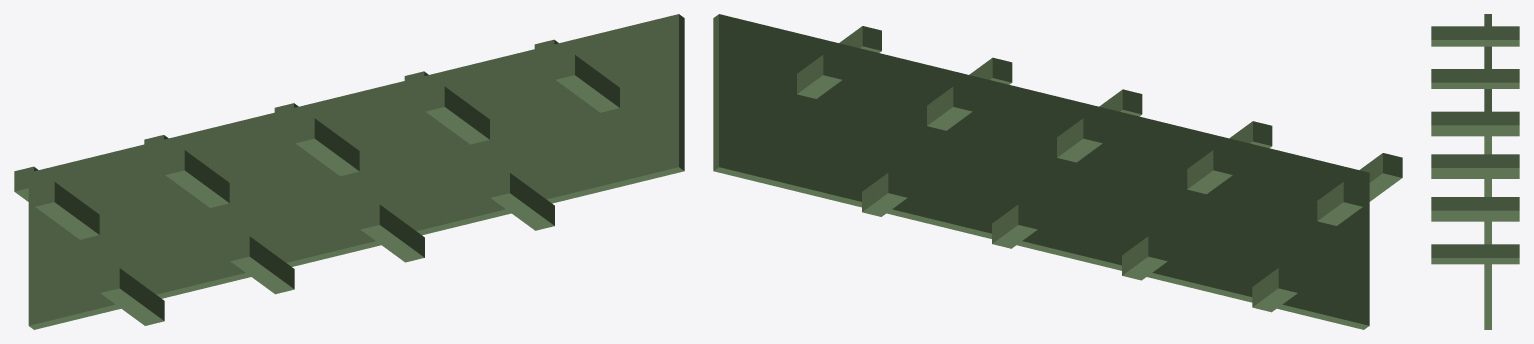
The model's file is SM_MangrovesRoute_Alpha.gltf.
The picture shows the model from 3 angles, left to right: view 1: azimuth 30°, elevation 25°; view 2: azimuth 150°, elevation 25°; view 3: azimuth 270°, elevation 25°; orthographic projection. The views are drawn at different scales.
Visible parts, largest first — view 1: SM_MangrovesRoute_Alpha; view 2: SM_MangrovesRoute_Alpha; view 3: SM_MangrovesRoute_Alpha.
Part boxes in pixels (box(x1,y1,x2,y2)): SM_MangrovesRoute_Alpha: box(14, 14, 684, 329); SM_MangrovesRoute_Alpha: box(713, 14, 1402, 329); SM_MangrovesRoute_Alpha: box(1431, 14, 1519, 329).
Bounding box in the file's own units: 8 × 1.8 × 1.4.
